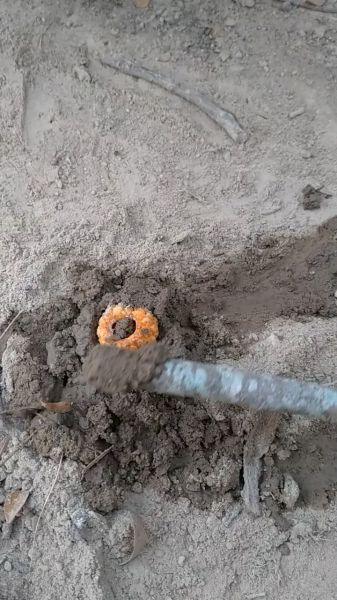eggs: (96, 301, 160, 354)
